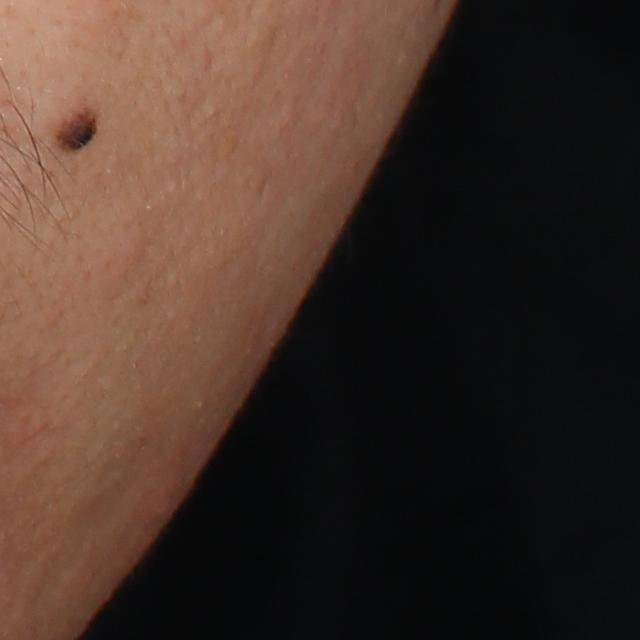nevus: (59, 107, 103, 157)
